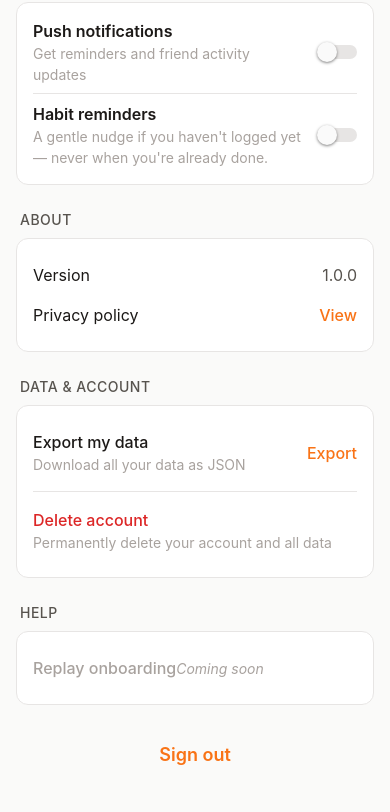
it: SettingsScreen — Account Section › does not clear local state when sign out API fails on web
The width and height of the screenshot is (390, 812).
(page scrolled)
Expected: the text "Sign out" is shown, left=159, top=745, right=231, bottom=764
Click the button "Sign out": (195, 755) left=16, top=729, right=374, bottom=780
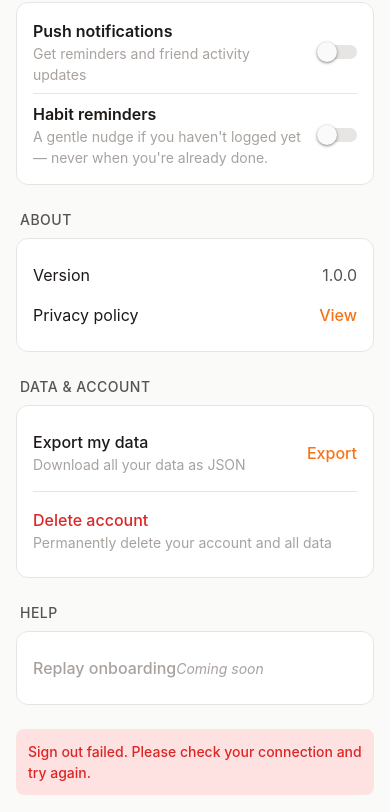
Now the message "Sign out failed. Please check your connection and try again." is shown, box left=16, top=729, right=374, bottom=795
